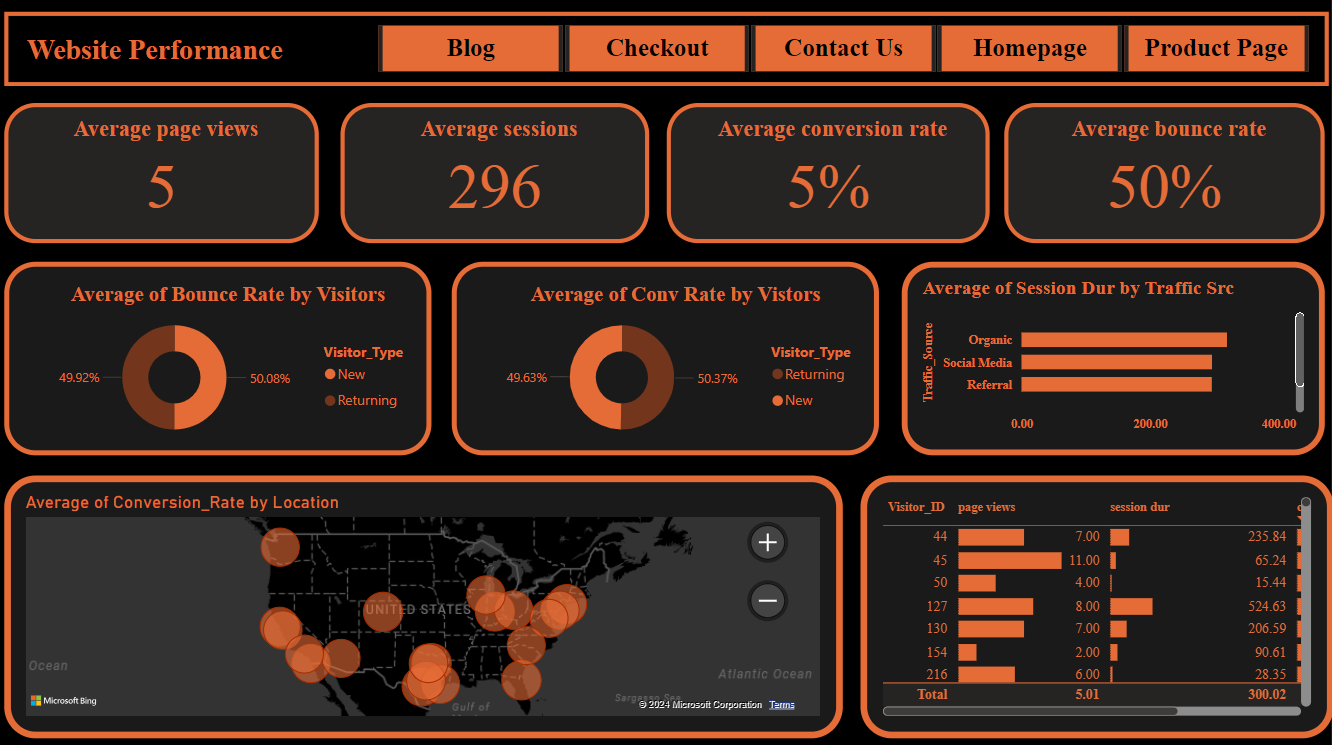

What the dashboard file says about the page in this screenshot:
{"tool":"powerbi","page":{"name":"Daashboard","canvas":[1280,720],"ordinal":0},"visuals":[{"type":"group","id":"g1","title":"Group 1","box":[0,0,1279.7,720.4],"z":0,"group":"g2"},{"type":"shape","box":[0,0,1279.7,720.4],"z":0,"group":"g1"},{"type":"shape","box":[5.7,12.9,1270,71.4],"z":1000,"group":"g1"},{"type":"kpi","title":"Average sessions","fields":{"Indicator":["Avg(website_performance_analytics.Session_Duration)"],"TrendLine":["website_performance_analytics.Exit_Pages"]},"box":[327.9,100.6,296.2,134.5],"z":1000,"group":"g2"},{"type":"textbox","box":[22.9,30,392.9,38.6],"z":2000,"group":"g1"},{"type":"kpi","title":"Average page views","fields":{"Indicator":["Avg(website_performance_analytics.Page_Views)"],"TrendLine":["website_performance_analytics.Exit_Pages"]},"box":[5.7,100.6,301.9,134.5],"z":2000,"group":"g2"},{"type":"kpi","title":"Average conversion rate","fields":{"TrendLine":["website_performance_analytics.Exit_Pages"],"Indicator":["Avg(website_performance_analytics.Conversion_Rate)"]},"box":[641.1,100.6,309.8,134.5],"z":3000,"group":"g2"},{"type":"donutChart","title":"Average of Bounce Rate by Visitors","fields":{"Category":["website_performance_analytics.Visitor_Type"],"Y":["Avg(website_performance_analytics.Bounce_Rate)"]},"box":[5.7,253.3,409.3,185.4],"z":3000,"group":"g1"},{"type":"slicer","fields":{"Values":["website_performance_analytics.Exit_Pages"]},"box":[344.3,24.3,931.4,48.6],"z":4000,"group":"g1"},{"type":"donutChart","title":"Average of Conv Rate by Vistors","fields":{"Category":["website_performance_analytics.Visitor_Type"],"Y":["Avg(website_performance_analytics.Conversion_Rate)"]},"box":[435.3,253.3,409.3,185.4],"z":4000,"group":"g2"},{"type":"kpi","title":"Average bounce rate","fields":{"TrendLine":["website_performance_analytics.Exit_Pages"],"Indicator":["Avg(website_performance_analytics.Bounce_Rate)"]},"box":[964.5,100.6,307.5,134.5],"z":5000,"group":"g2"},{"type":"clusteredBarChart","title":"Average of Session Dur by Traffic Src","fields":{"Category":["website_performance_analytics.Traffic_Source"],"Y":["Avg(website_performance_analytics.Session_Duration)"]},"box":[866.1,253.3,405.9,185.4],"z":5000,"group":"g1"},{"type":"map","fields":{"Category":["website_performance_analytics.Location"],"Size":["Avg(website_performance_analytics.Conversion_Rate)"]},"box":[5.7,457.9,803.9,252.1],"z":6000,"group":"g2"},{"type":"tableEx","fields":{"Values":["website_performance_analytics.Visitor_ID","Avg(website_performance_analytics.Page_Views)","Avg(website_performance_analytics.Session_Duration)","Avg(website_performance_analytics.Conversion_Rate)"]},"box":[826.5,457.9,453.4,252.1],"z":7000,"group":"g2"},{"type":"group","id":"g2","title":"Group 2","box":[0,0,1279.9,720.4],"z":7001}]}

Visuals, with their boxes in screenshot pixels (x1, y1, x2, y2), scaled from the page's 1280x720 canvas onto the 1332x745 screenshot:
"Group 1" group: 0 0 1331 744
shape: 0 0 1331 744
shape: 6 13 1328 87
"Average sessions" kpi: 341 104 649 243
textbox: 24 31 433 71
"Average page views" kpi: 6 104 320 243
"Average conversion rate" kpi: 667 104 990 243
"Average of Bounce Rate by Visitors" donutChart: 6 262 432 454
slicer - website_performance_analytics.Exit_Pages: 358 25 1328 75
"Average of Conv Rate by Vistors" donutChart: 453 262 879 454
"Average bounce rate" kpi: 1004 104 1324 243
"Average of Session Dur by Traffic Src" clusteredBarChart: 901 262 1324 454
map - website_performance_analytics.Location x Avg(website_performance_analytics.Conversion_Rate): 6 474 842 735
tableEx - website_performance_analytics.Visitor_ID x Avg(website_performance_analytics.Page_Views): 860 474 1331 735
"Group 2" group: 0 0 1331 744
